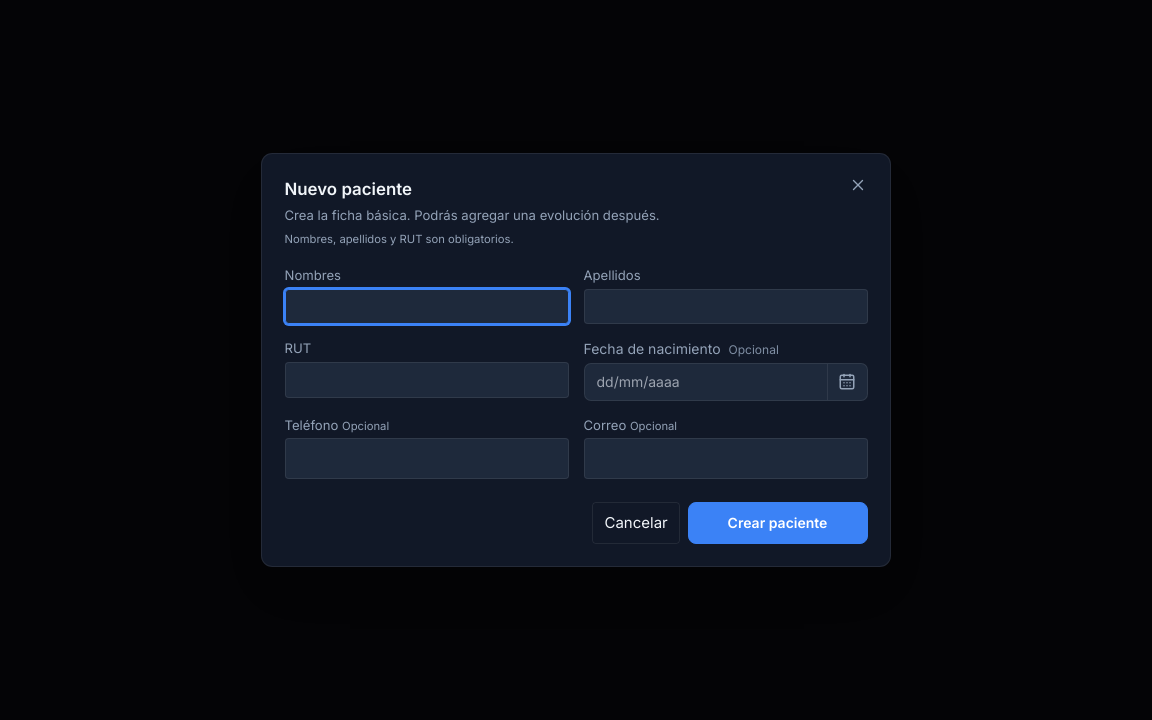
PatientFormModal › preserves the duplicate-patient resolution flow
The width and height of the screenshot is (1152, 720).
Type "Ana" into the field labelled "Nombres" at (426, 306), box [284,288,568,324]
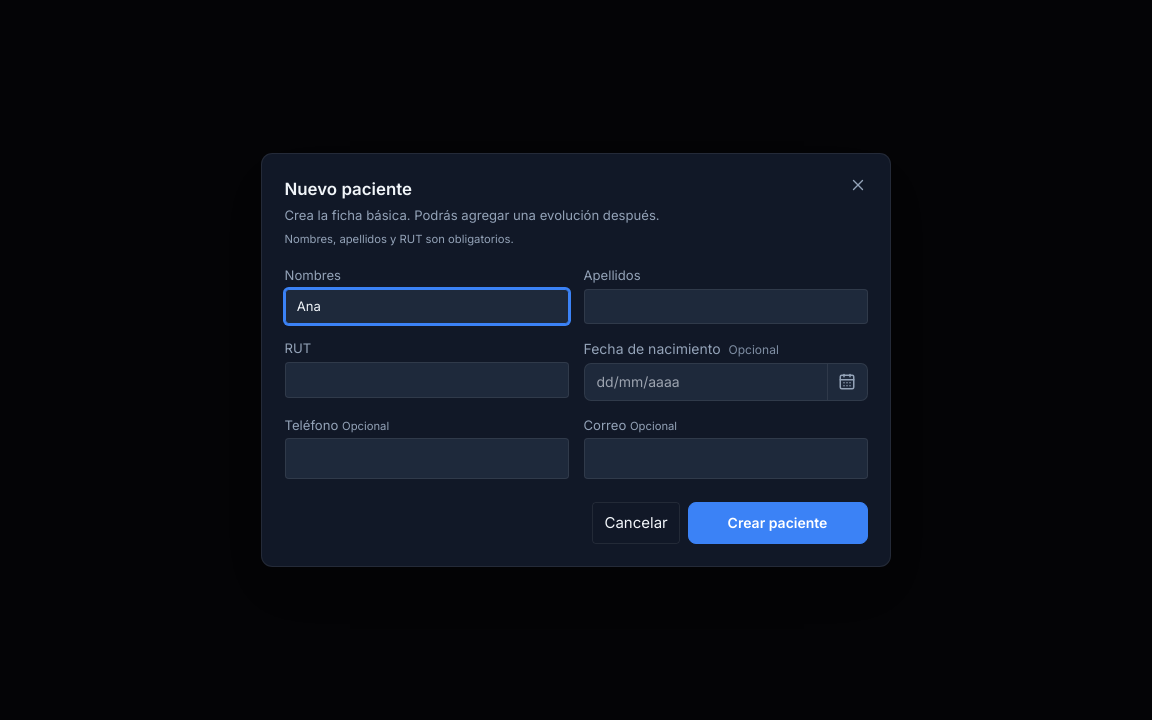
Type "Pérez" into the field labelled "Apellidos" at (726, 306), box [584,288,868,324]
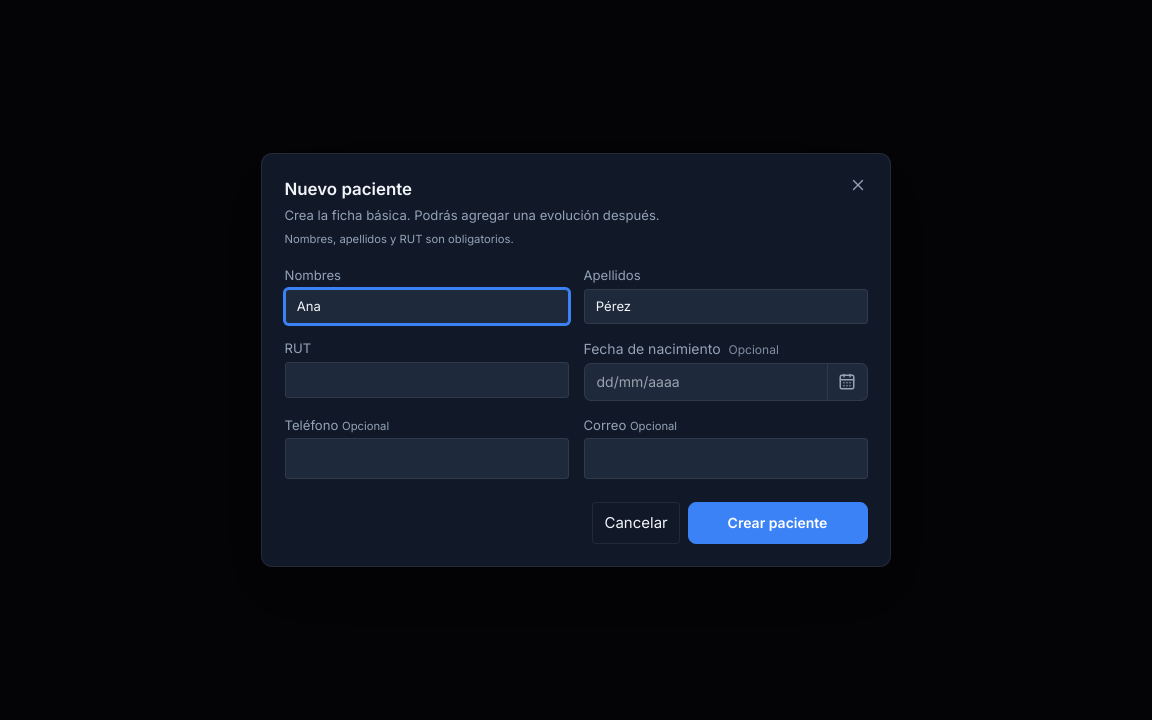
Type "12.345.678-5" into the field named "RUT" at (426, 380), box [284,362,568,398]
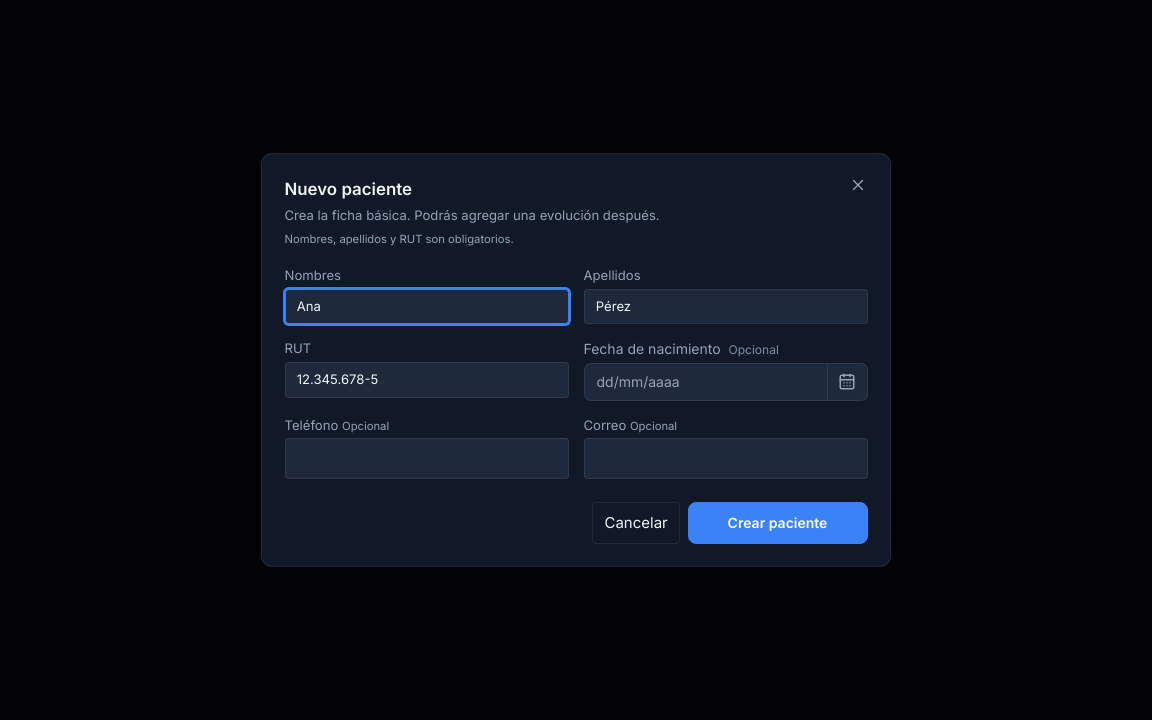
Click the button "Crear paciente" at (778, 523), box [688,502,868,544]
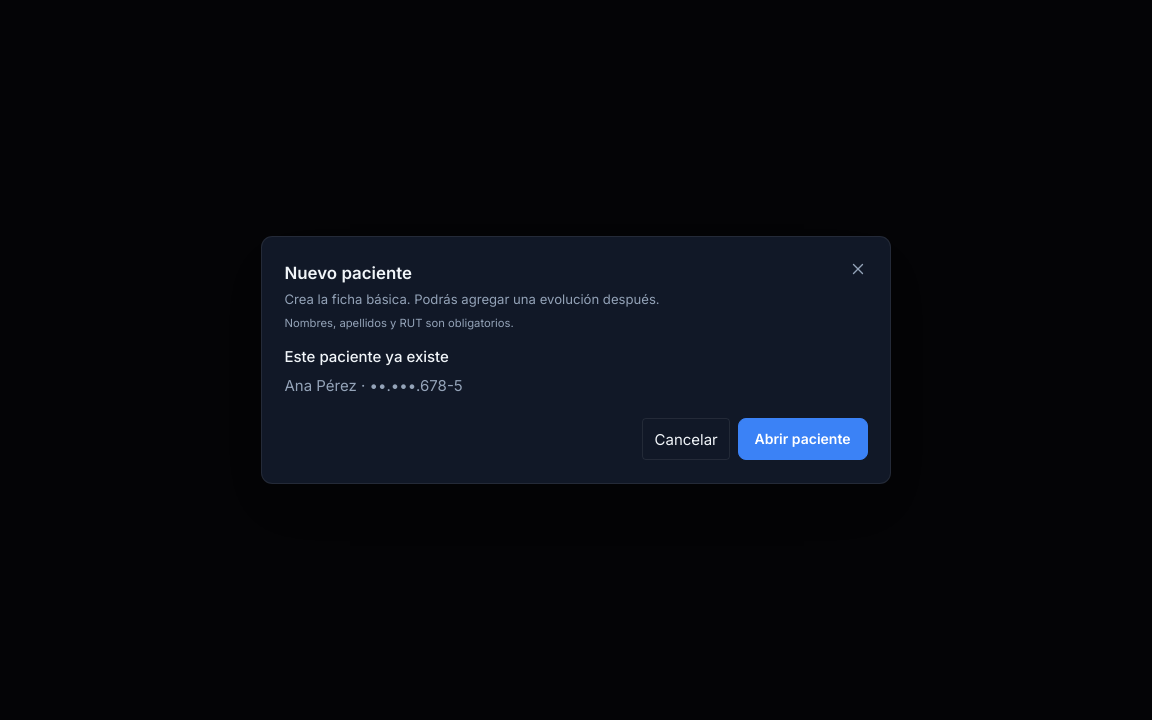
Expected: the text "Este paciente ya existe" is shown, [284,347,449,366]
Expected: the text "Ana Pérez · ••.•••.678-5" is shown, [284,376,463,395]
